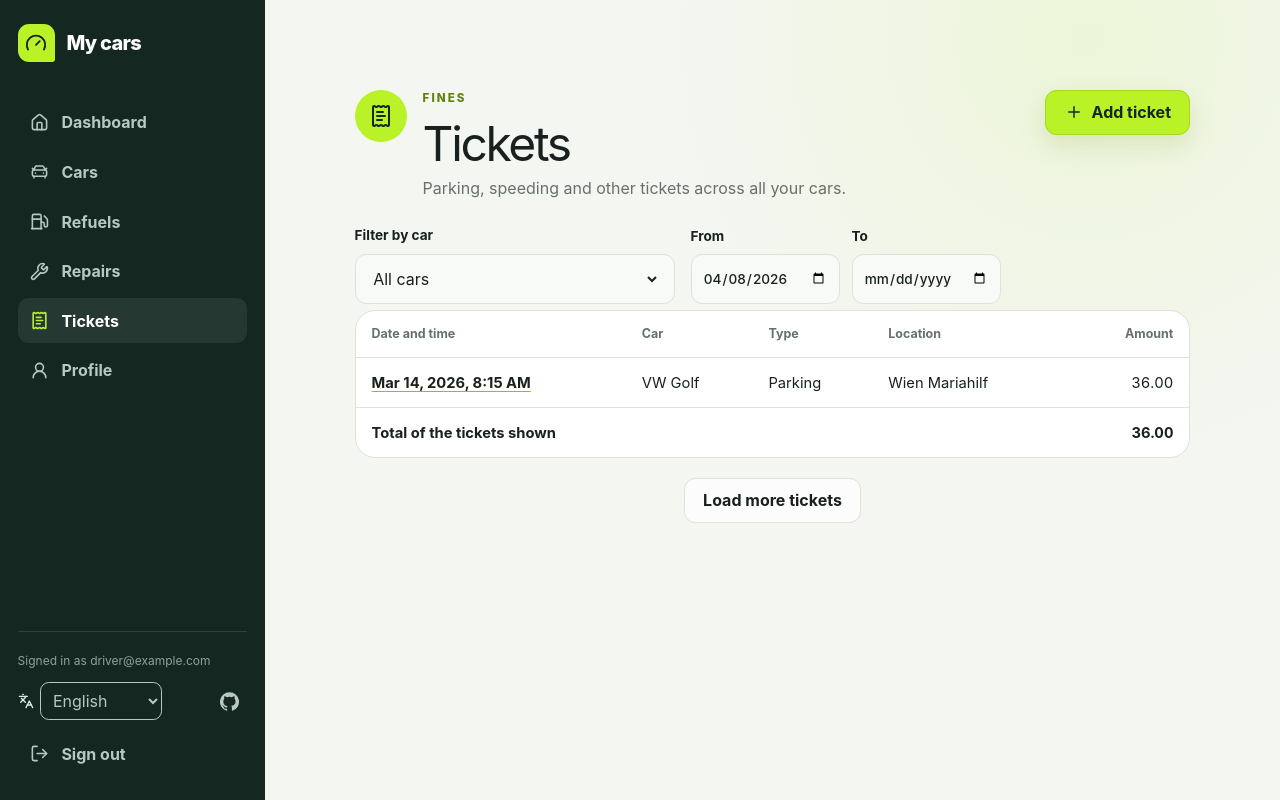
it: tickets list › appends a further page and includes it in the total
Expected: the text "Wien Mariahilf" is shown, [872, 358, 1076, 408]
Expected: the row "Total of the tickets shown 36.00" is shown, [356, 408, 1189, 458]
Click the button "Load more tickets" at (772, 500), box [684, 478, 861, 523]
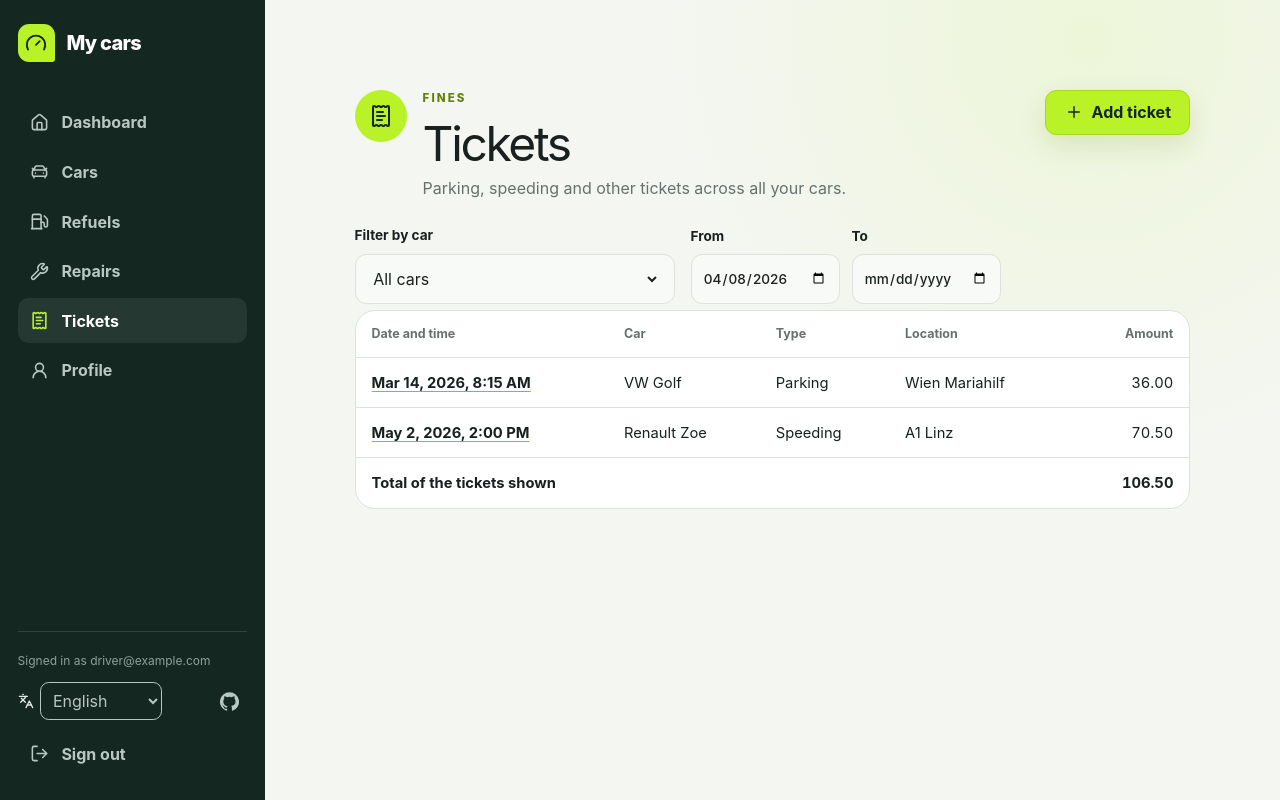
Expected: the text "A1 Linz" is shown, [889, 408, 1079, 458]
Expected: the row "Total of the tickets shown 106.50" is shown, [356, 458, 1189, 508]
Expected: the button "Load more tickets" is gone
